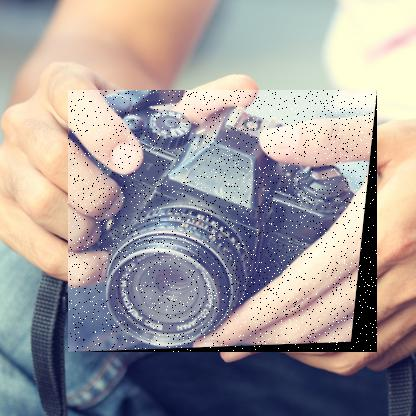Camera: (70, 91, 380, 354)
